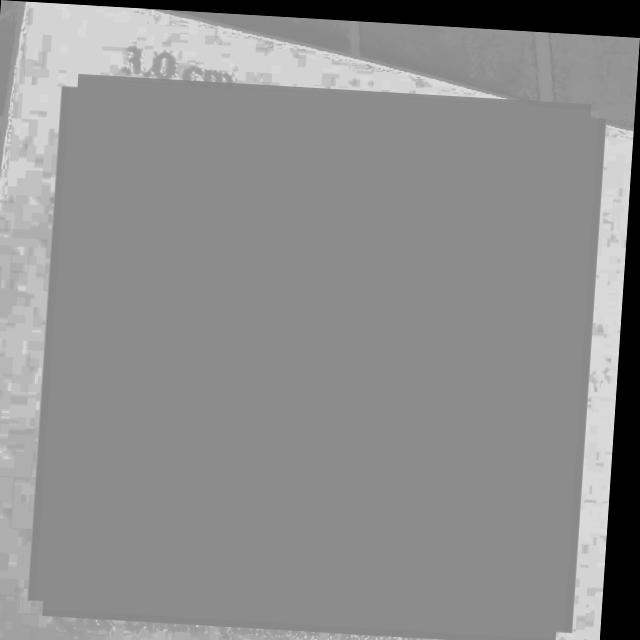qr_code: (42, 78, 599, 632)
